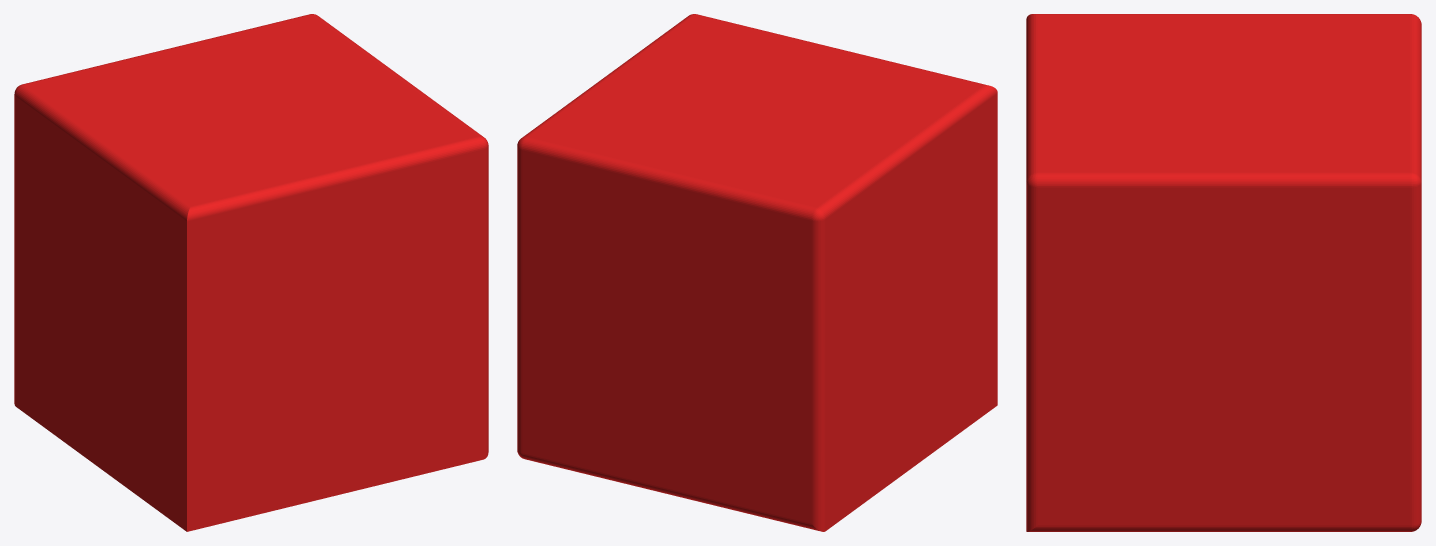
File: red_block.dae
3 views of the same model, side by side, from view 1: azimuth 30°, elevation 25°; view 2: azimuth 150°, elevation 25°; view 3: azimuth 270°, elevation 25° (orthographic). The views are drawn at different scales.
Visible parts, largest first — view 1: blocks; view 2: blocks; view 3: blocks.
Boxes of the visible parts, x1,y1,x2,y2 form: blocks: [14, 14, 488, 531]; blocks: [517, 14, 997, 531]; blocks: [1026, 14, 1421, 531].
Size of the model in its own units: 0.035 by 0.035 by 0.035.
